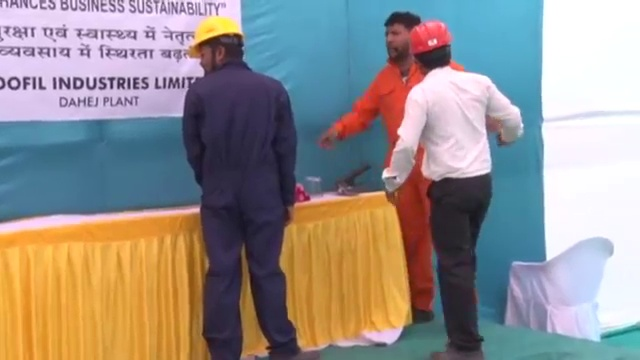helmet: (186, 15, 246, 59), (407, 19, 455, 54)
helmet_off: (380, 11, 421, 64)
helmet_on: (186, 14, 246, 75), (406, 18, 456, 77)
person: (382, 18, 524, 360), (183, 12, 320, 360), (319, 10, 461, 319)
